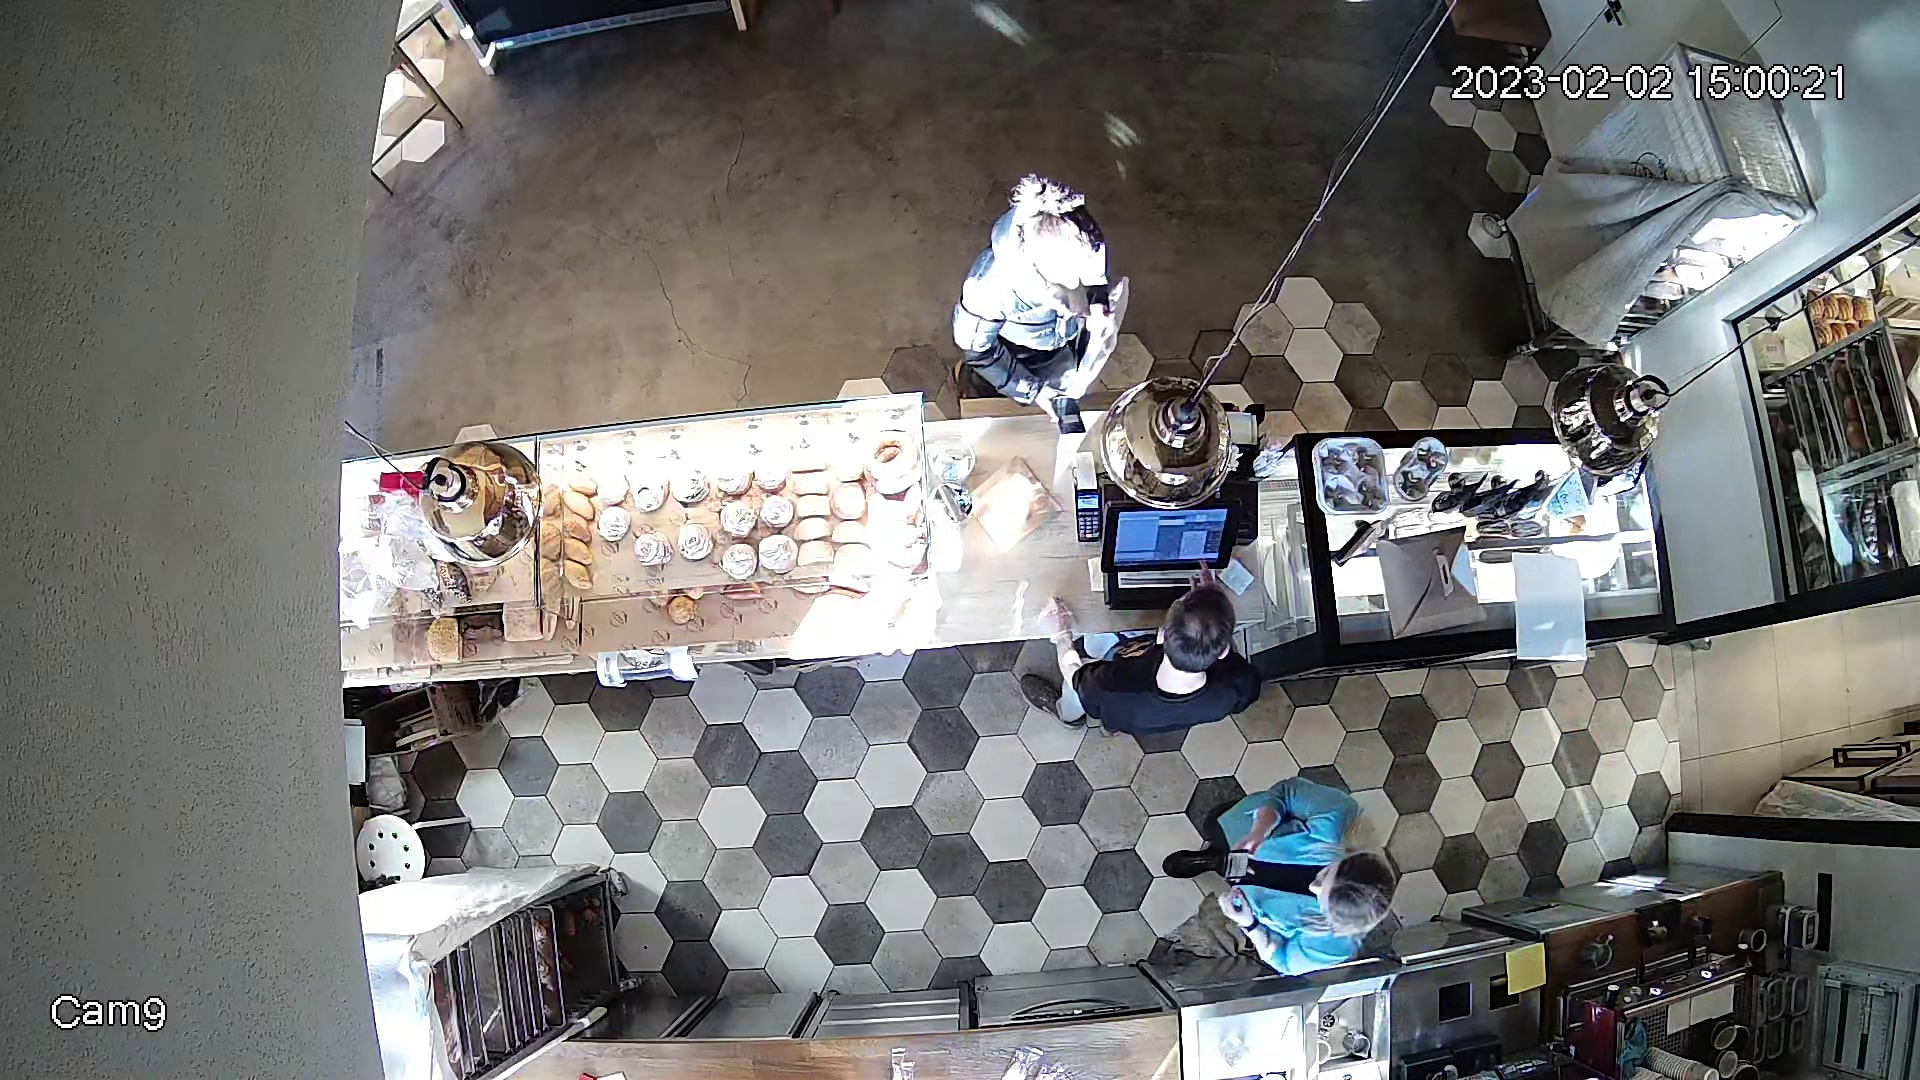barcounter: (351, 450, 1701, 683)
pack: (956, 453, 1062, 553)
person: (936, 187, 1128, 427), (1166, 772, 1382, 974), (1037, 598, 1249, 747)
